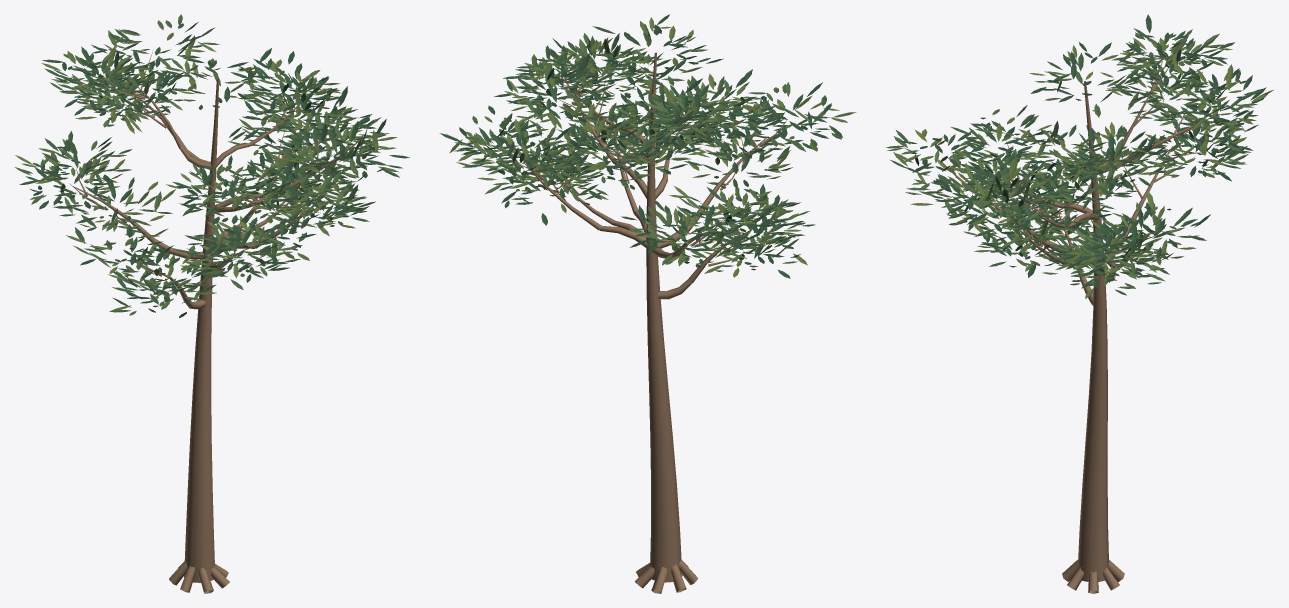
Rendered from Pin_Cotier_0_Low.fbx.
3 renders of one model, left to right at view 1: azimuth 30°, elevation 25°; view 2: azimuth 150°, elevation 25°; view 3: azimuth 270°, elevation 25°, orthographic. The views are drawn at different scales.
Visible parts, largest first — view 1: Pin_Cotier_0_Low; view 2: Pin_Cotier_0_Low; view 3: Pin_Cotier_0_Low.
Boxes of the visible parts, box(x1,y1,x2,y2) form: Pin_Cotier_0_Low: box(15, 14, 409, 593); Pin_Cotier_0_Low: box(439, 14, 856, 593); Pin_Cotier_0_Low: box(886, 14, 1273, 593).
Bounding box in the file's own units: 745 × 1146 × 760.
